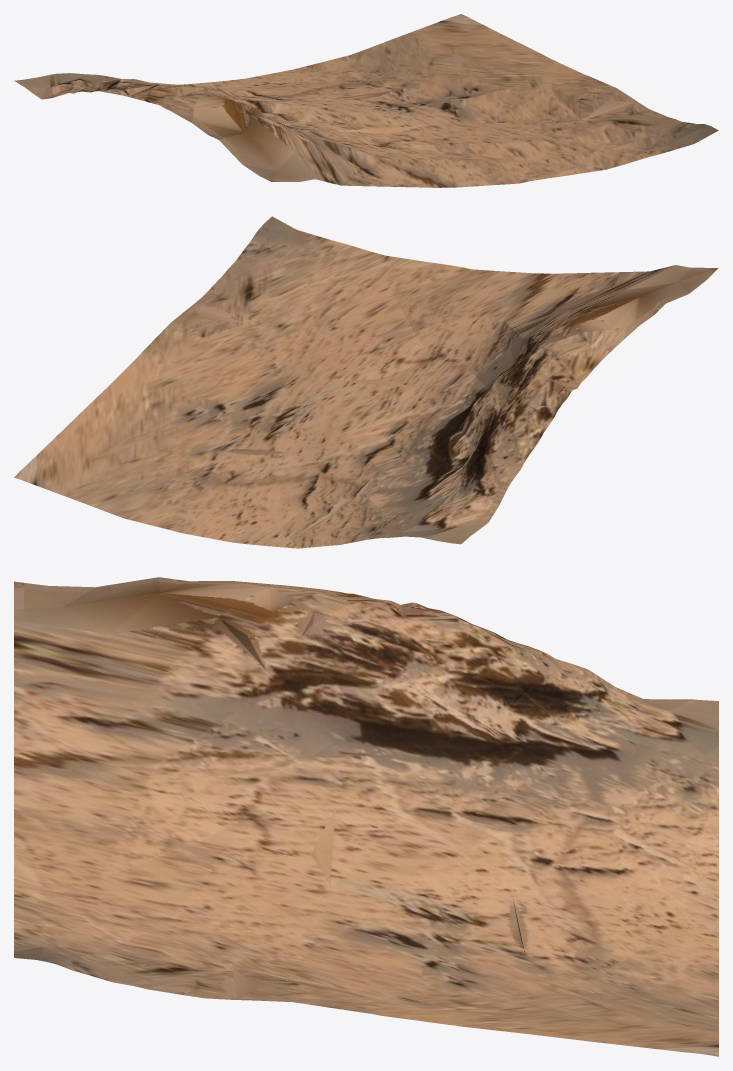
3 renders of one model, top to bottom at view 1: azimuth 30°, elevation 25°; view 2: azimuth 150°, elevation 25°; view 3: azimuth 270°, elevation 25°, orthographic. The views are drawn at different scales.
Bounding box in the file's own units: 2.09 × 0.663 × 2.09.
Materials: 3 (3 with a texture image).
